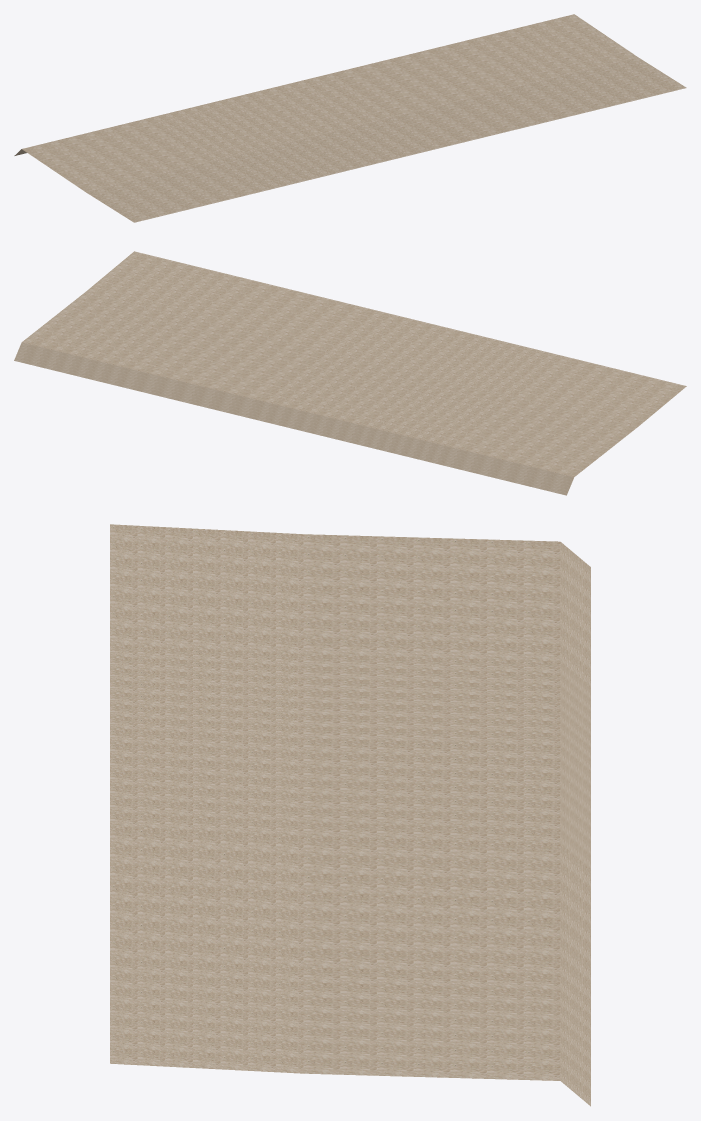
The model's file is sbedsfn4_sfn.obj.
The picture shows the model from 3 angles, top to bottom: view 1: azimuth 30°, elevation 25°; view 2: azimuth 150°, elevation 25°; view 3: azimuth 270°, elevation 25°; orthographic projection. The views are drawn at different scales.
Parts seen in each view (by area): view 1: sbedsfn4_SFN; view 2: sbedsfn4_SFN; view 3: sbedsfn4_SFN.
Part boxes in pixels (x1=…): sbedsfn4_SFN: x1=14, y1=14, x2=686, y2=222; sbedsfn4_SFN: x1=14, y1=251, x2=686, y2=495; sbedsfn4_SFN: x1=110, y1=524, x2=590, y2=1106.
Bounding box in the file's own units: 409 × 15.17 × 154.
1 material, 1 textured.
